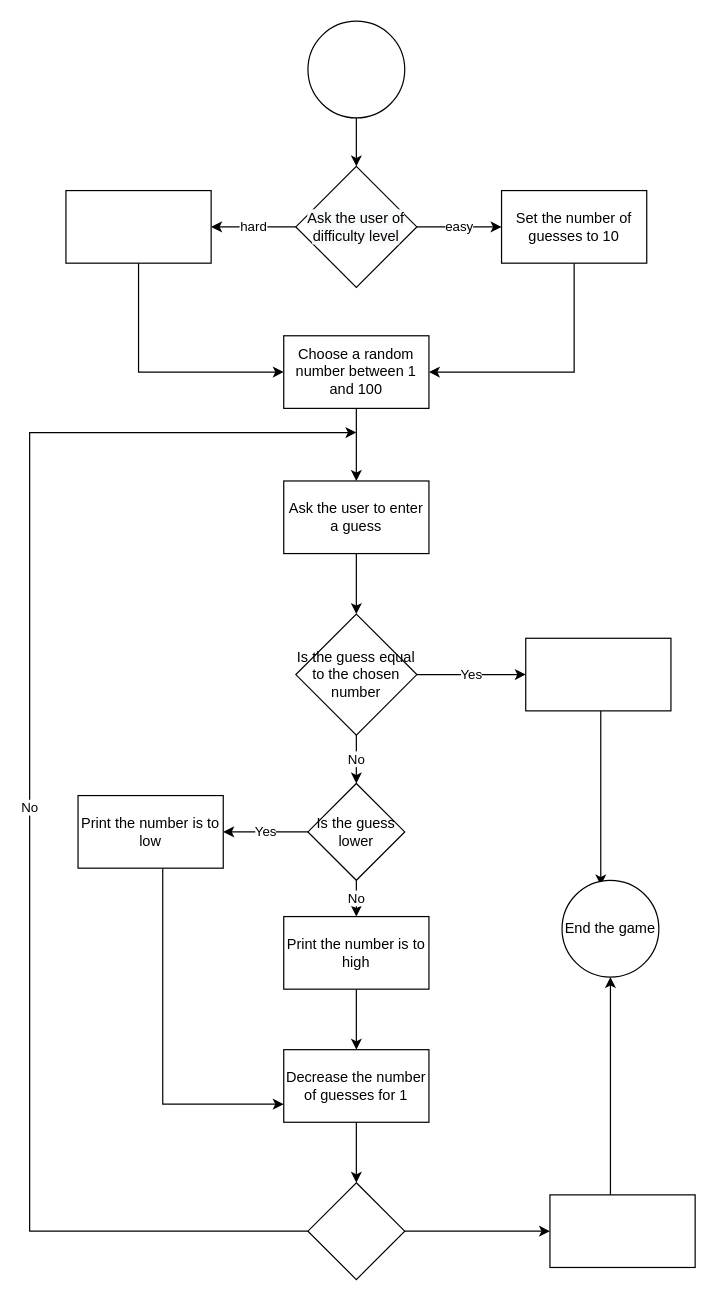
Image size: 716x1301. Some labels were removed from this diagram. Here are the shapes that lost their labels. From the top down, the centre of each, then its label:
At [356,69]: "Start".
At [138,226]: "Set the number of guesses to 5".
At [598,674]: "Print the number is guessed. Win".
At [356,1231]: "Is the number of guesses equal to 0".
At [622,1230]: "Print the number is not guessed. Lose!".
